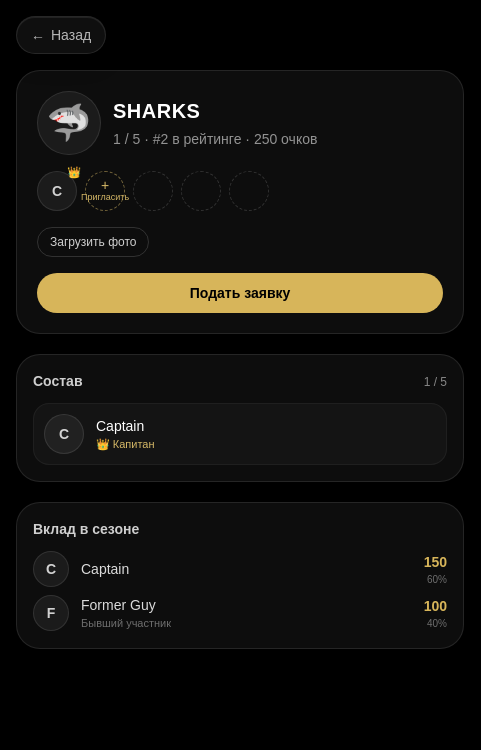
Test: public team detail -- captain-only invite slot (Part E) › 12. the captain of THIS team sees a '+ Пригласить' roster slot when the team isn't full
Click the button "+ Пригласить": click(105, 191) [85, 171, 125, 211]
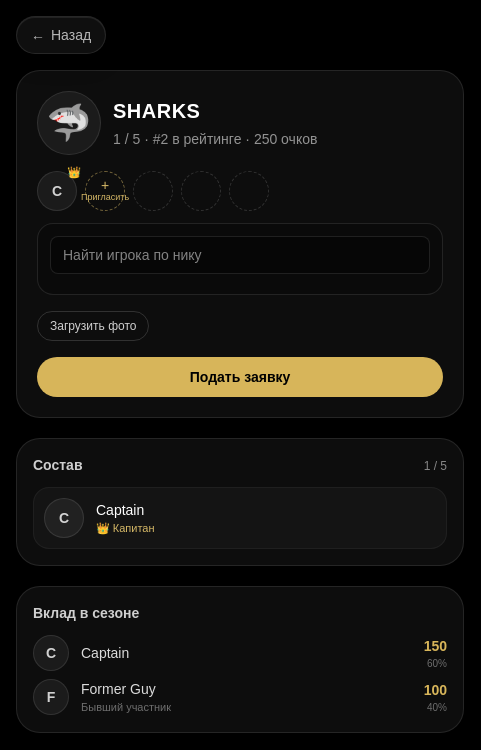
Now the field with placeholder "Найти игрока по нику" is shown, box [50, 236, 430, 274]
